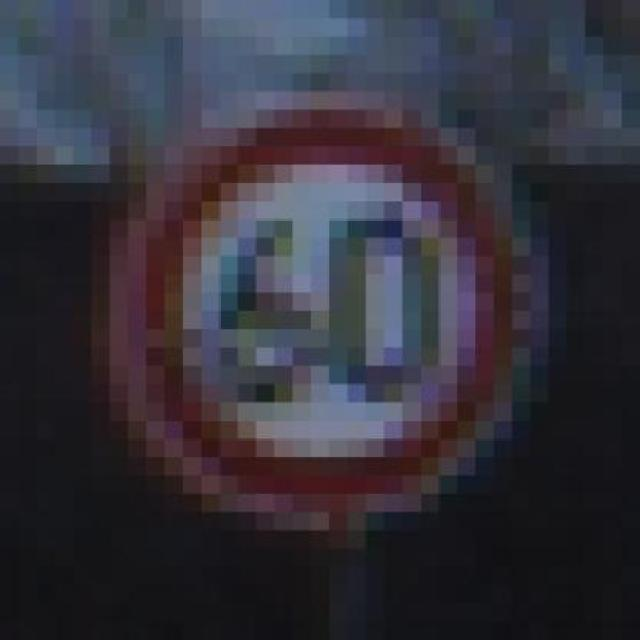forb_speed_over_60: (150, 114, 527, 501)
